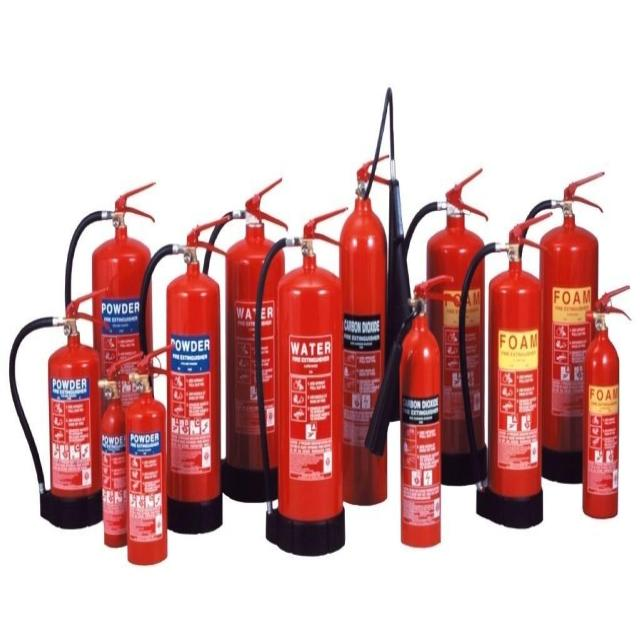fire_extinguisher: (251, 202, 351, 568), (332, 80, 414, 514), (57, 176, 157, 520), (388, 161, 490, 496), (453, 202, 555, 534), (194, 172, 292, 508), (508, 164, 608, 490), (136, 210, 225, 539), (360, 271, 460, 554), (6, 280, 115, 535), (576, 278, 633, 521), (123, 341, 178, 570), (96, 349, 146, 552)
